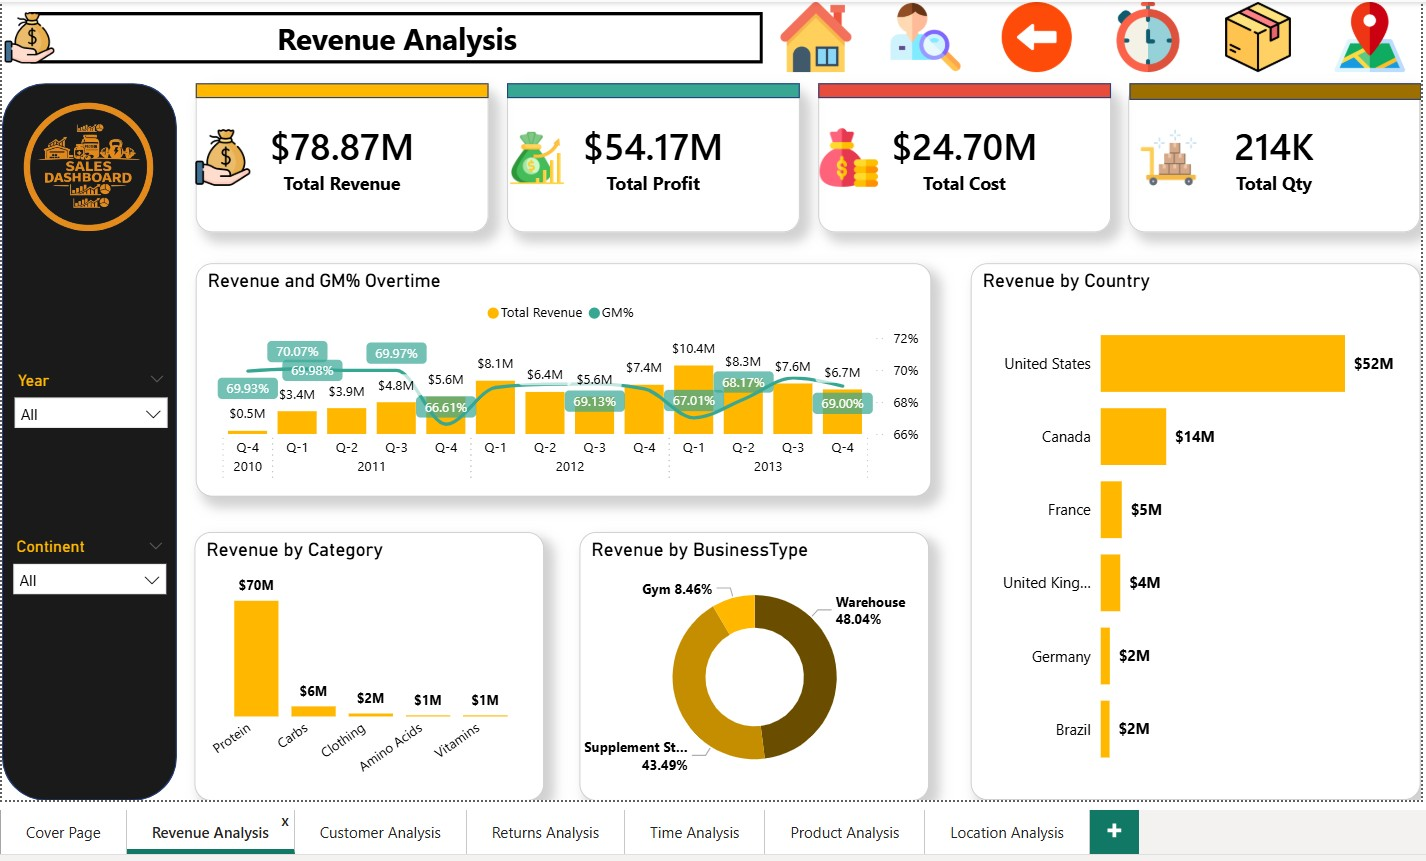

This screenshot's page, from the dashboard's own definition file:
{"tool":"powerbi","page":{"name":"Revenue Analysis","canvas":[1280,720],"ordinal":1},"visuals":[{"type":"shape","box":[0,73.4,157.7,646.9],"z":0},{"type":"lineClusteredColumnComboChart","title":"Revenue and GM% Overtime","fields":{"Category":["Calendar Table.Year","Calendar Table.Quarter"],"Y":["Calculations.Total Revenue"],"Y2":["Calculations.GM%"]},"box":[174.1,235.6,662.9,210.7],"z":1000},{"type":"clusteredBarChart","title":"Revenue by Country","fields":{"Category":["Customers.CountryName"],"Y":["Calculations.Total Revenue"]},"box":[873.7,235.6,405.4,484.4],"z":2000},{"type":"cardVisual","fields":{"Data":["Calculations.Total Revenue"]},"box":[174.1,73,264,134],"z":3000,"group":"g1"},{"type":"cardVisual","fields":{"Data":["Calculations.Total Cost"]},"box":[736.4,73,264,134],"z":3000,"group":"g2"},{"type":"cardVisual","fields":{"Data":["Calculations.Total Qty"]},"box":[1015.9,73,263.4,134],"z":3000,"group":"g4"},{"type":"clusteredColumnChart","title":"Revenue by Category","fields":{"Y":["Calculations.Total Revenue"],"Category":["Product.CategoryName"]},"box":[173.6,478.1,315,242.1],"z":3000},{"type":"donutChart","title":"Revenue by BusinessType","fields":{"Y":["Calculations.Total Revenue"],"Category":["Customers.BusinessType"]},"box":[520.9,478.1,315.5,242.1],"z":4000},{"type":"slicer","fields":{"Values":["Calendar Table.Year"]},"box":[1.2,327.7,157.7,63.6],"z":5000},{"type":"slicer","fields":{"Values":["Customers.Continent"]},"box":[0,478.1,157.7,64.8],"z":6000},{"type":"image","box":[0,74.6,158,149.3],"z":7000},{"type":"group","id":"g1","title":"Group 1","box":[174.1,73,264,134],"z":8000},{"type":"group","id":"g2","title":"Group 2","box":[736.4,73,264.5,134],"z":9000},{"type":"group","id":"g3","title":"Group 3","box":[455.3,73,264.5,134],"z":10000},{"type":"group","id":"g4","title":"Group 2","box":[1015.9,73,264.1,134],"z":11000},{"type":"cardVisual","fields":{"Data":["Calculations.Total Profit"]},"box":[455.8,73,264,134],"z":11001,"group":"g3"},{"type":"shape","box":[174.1,73,264,13.4],"z":11002,"group":"g1"},{"type":"shape","box":[736.9,73,264,13.4],"z":11005,"group":"g2"},{"type":"shape","box":[1016.6,73,263.4,15.1],"z":11005,"group":"g4"},{"type":"shape","box":[455.3,73,264,13.4],"z":11008,"group":"g3"},{"type":"image","box":[687,0,92.9,63.6],"z":12000},{"type":"image","box":[787,0,91.7,63.6],"z":13000},{"type":"image","box":[887,0,92,63],"z":14000},{"type":"image","box":[987,0,92,63],"z":15000},{"type":"image","box":[1187.4,0,92.9,63.6],"z":16000},{"type":"image","box":[1087,0,92,63.6],"z":17000},{"type":"actionButton","box":[25.7,8.6,660.3,46.5],"z":18000},{"type":"image","box":[1026,113.7,52.6,52.6],"z":19000},{"type":"image","box":[737.4,113.7,52.6,52.6],"z":20000},{"type":"image","box":[456.1,113.7,51.4,52.6],"z":21000},{"type":"image","box":[173.6,113.7,51.4,52.6],"z":22000},{"type":"cardVisual","fields":{"Data":["Calculations.Rev arrow"]},"box":[360.7,91.7,94.2,74.6],"z":23000},{"type":"cardVisual","fields":{"Data":["Calculations.QTY arrow"]},"box":[1187.4,91.7,92.9,74.6],"z":24000},{"type":"cardVisual","fields":{"Data":["Calculations.Cost arrow"]},"box":[931.8,91.7,94.2,74.6],"z":25000},{"type":"cardVisual","fields":{"Data":["Calculations.Profit arrow"]},"box":[643.2,91.7,94.2,74.6],"z":26000},{"type":"image","box":[0,8.6,50.1,46.5],"z":27000}]}

Visuals, with their boxes on the page's 1280x720 design canvas (x1, y1, x2, y2). These are canvas units, not pixel positions in the 1426x861 screenshot, which may show the page scaled, cropped or inside an application window:
shape: box=[0, 73, 158, 720]
"Revenue and GM% Overtime" lineClusteredColumnComboChart: box=[174, 236, 837, 446]
"Revenue by Country" clusteredBarChart: box=[874, 236, 1279, 720]
cardVisual - Calculations.Total Revenue: box=[174, 73, 438, 207]
cardVisual - Calculations.Total Cost: box=[736, 73, 1000, 207]
cardVisual - Calculations.Total Qty: box=[1016, 73, 1279, 207]
"Revenue by Category" clusteredColumnChart: box=[174, 478, 489, 720]
"Revenue by BusinessType" donutChart: box=[521, 478, 836, 720]
slicer - Calendar Table.Year: box=[1, 328, 159, 391]
slicer - Customers.Continent: box=[0, 478, 158, 543]
image: box=[0, 75, 158, 224]
"Group 1" group: box=[174, 73, 438, 207]
"Group 2" group: box=[736, 73, 1001, 207]
"Group 3" group: box=[455, 73, 720, 207]
"Group 2" group: box=[1016, 73, 1280, 207]
cardVisual - Calculations.Total Profit: box=[456, 73, 720, 207]
shape: box=[174, 73, 438, 86]
shape: box=[737, 73, 1001, 86]
shape: box=[1017, 73, 1280, 88]
shape: box=[455, 73, 719, 86]
image: box=[687, 0, 780, 64]
image: box=[787, 0, 879, 64]
image: box=[887, 0, 979, 63]
image: box=[987, 0, 1079, 63]
image: box=[1187, 0, 1280, 64]
image: box=[1087, 0, 1179, 64]
actionButton: box=[26, 9, 686, 55]
image: box=[1026, 114, 1079, 166]
image: box=[737, 114, 790, 166]
image: box=[456, 114, 508, 166]
image: box=[174, 114, 225, 166]
cardVisual - Calculations.Rev arrow: box=[361, 92, 455, 166]
cardVisual - Calculations.QTY arrow: box=[1187, 92, 1280, 166]
cardVisual - Calculations.Cost arrow: box=[932, 92, 1026, 166]
cardVisual - Calculations.Profit arrow: box=[643, 92, 737, 166]
image: box=[0, 9, 50, 55]
